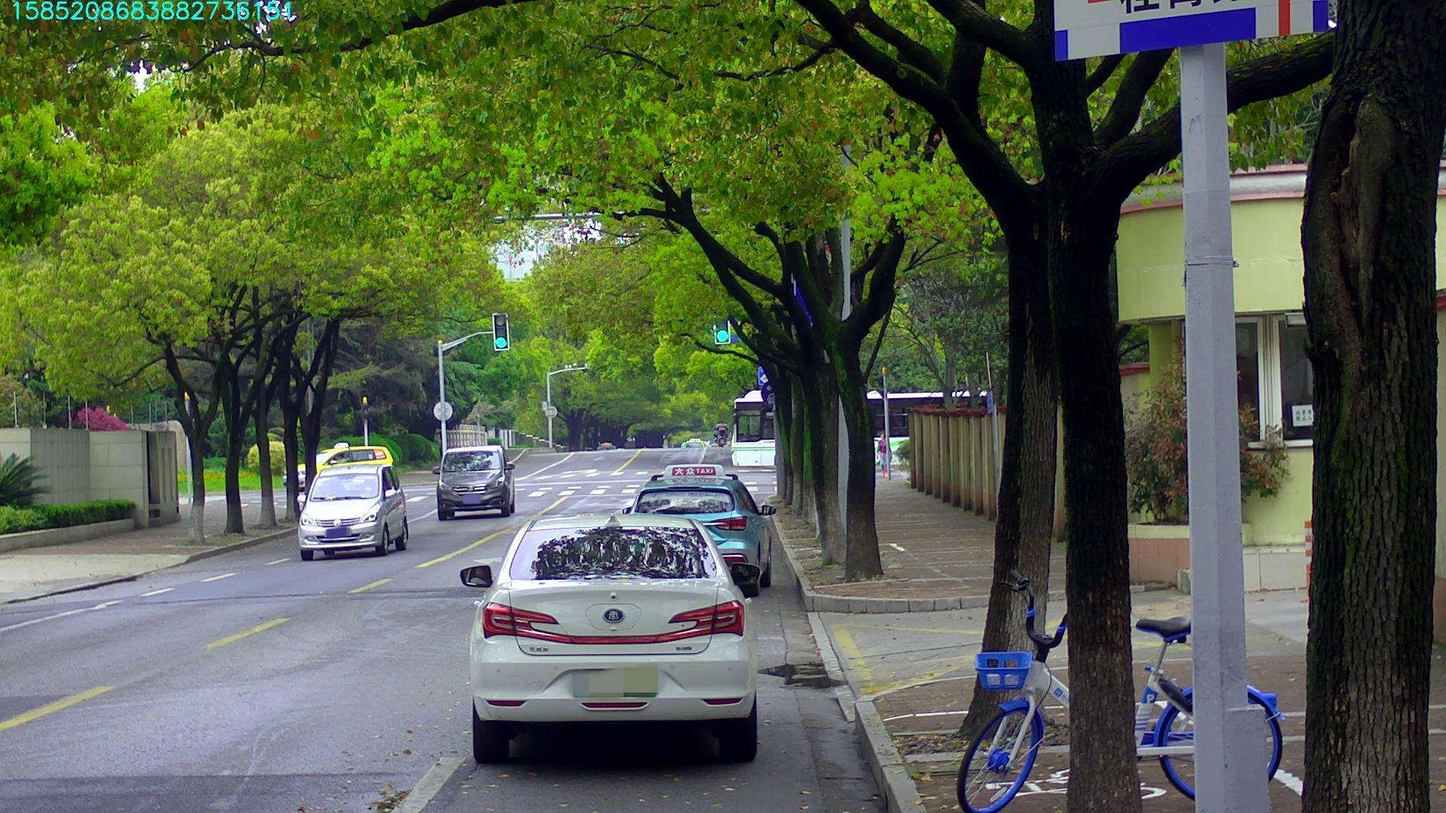green: (493, 314, 508, 349), (714, 315, 728, 343)
